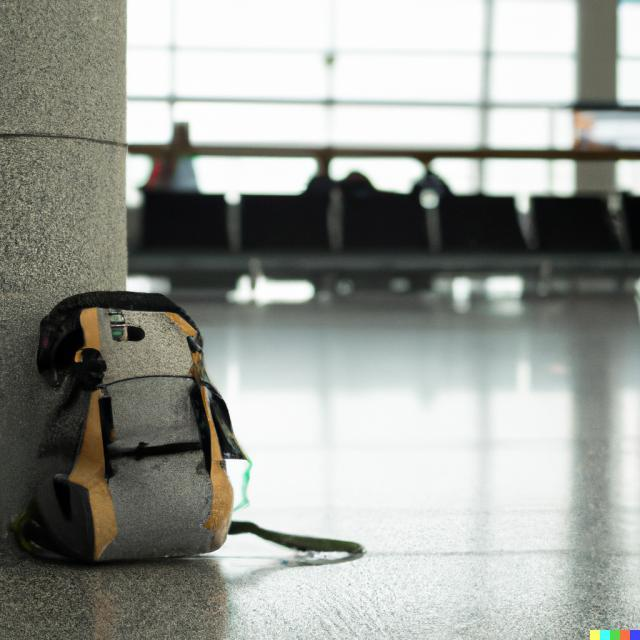Backpacks: (29, 284, 242, 562)
